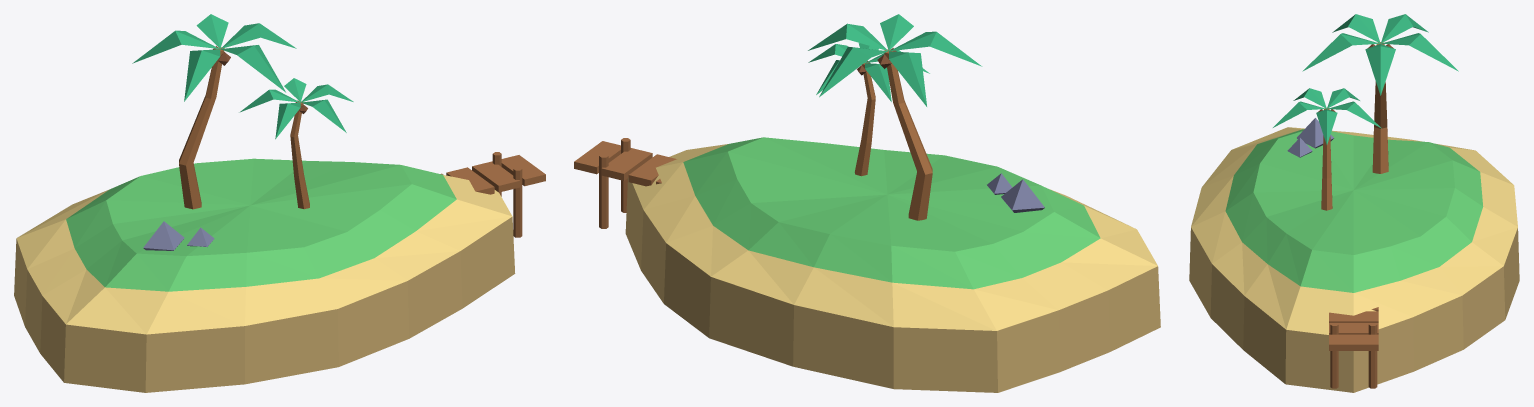
Rendered from island-palm-cay.glb.
3 renders of one model, left to right at view 1: azimuth 30°, elevation 25°; view 2: azimuth 150°, elevation 25°; view 3: azimuth 270°, elevation 25°, orthographic. The views are drawn at different scales.
Parts seen in each view (by area): view 1: grass, sand_edge, sand, leaf, trunk, wood, rock; view 2: grass, sand_edge, sand, leaf, trunk, wood, rock; view 3: grass, sand, sand_edge, leaf, wood, trunk, rock.
Part boxes in pixels (bbox=[...]): grass: bbox=[66, 158, 456, 291]; sand_edge: bbox=[14, 216, 515, 392]; sand: bbox=[16, 175, 512, 334]; leaf: bbox=[132, 14, 353, 139]; trunk: bbox=[179, 47, 309, 209]; wood: bbox=[440, 152, 545, 237]; rock: bbox=[143, 221, 214, 250]; grass: bbox=[683, 137, 1100, 289]; sand_edge: bbox=[625, 178, 1160, 392]; sand: bbox=[632, 144, 1157, 330]; leaf: bbox=[808, 14, 982, 106]; trunk: bbox=[854, 49, 932, 220]; wood: bbox=[574, 138, 676, 228]; rock: bbox=[987, 173, 1044, 212]; grass: bbox=[1225, 129, 1483, 292]; sand: bbox=[1191, 127, 1517, 334]; sand_edge: bbox=[1189, 227, 1519, 392]; leaf: bbox=[1273, 14, 1458, 144]; wood: bbox=[1329, 307, 1378, 388]; trunk: bbox=[1321, 42, 1388, 210]; rock: bbox=[1287, 118, 1333, 157].
Bounding box in the file's own units: 7.06 × 3.52 × 4.3.
